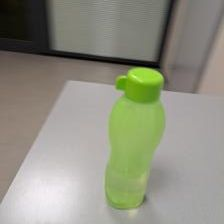bottle: (95, 63, 169, 212)
